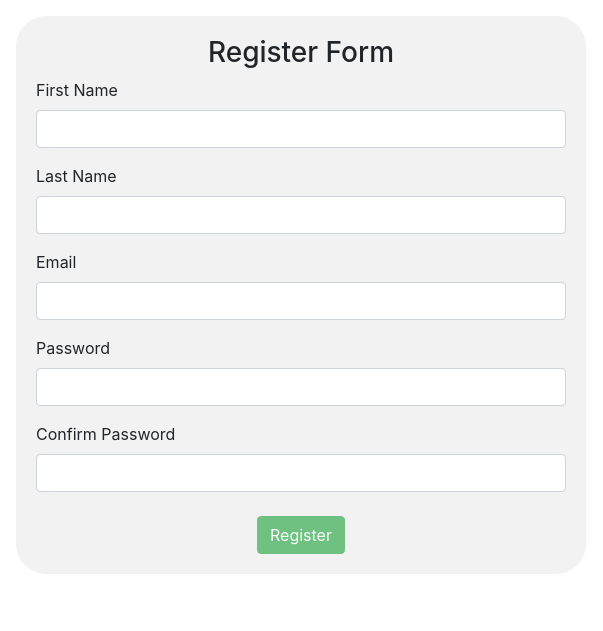
register page › confirm Password validation › fill password and confirmPassword with different strings, expect error saying *Please enter the same password
The width and height of the screenshot is (603, 631).
Type "abctestAAA" into the 1st password field named "password".
click(301, 387); type("abctestAAA")  # box [36,368,566,406]
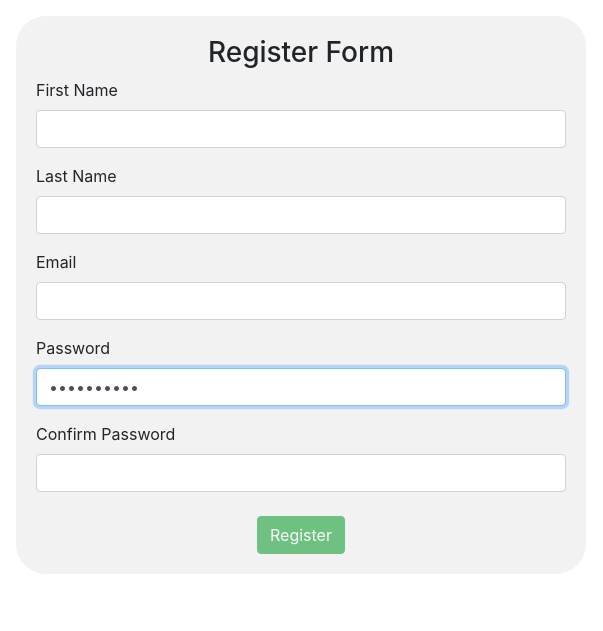
Type "qwerty" into the password field named "confirmPassword" below "Confirm Password".
click(301, 473); type("qwerty")  # box [36,454,566,492]
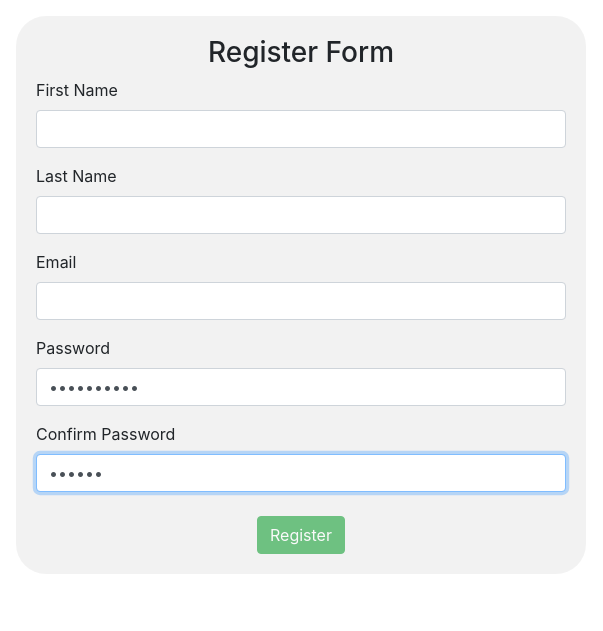
Focus the 1st password field named "password" at (301, 387), box [36,368,566,406]
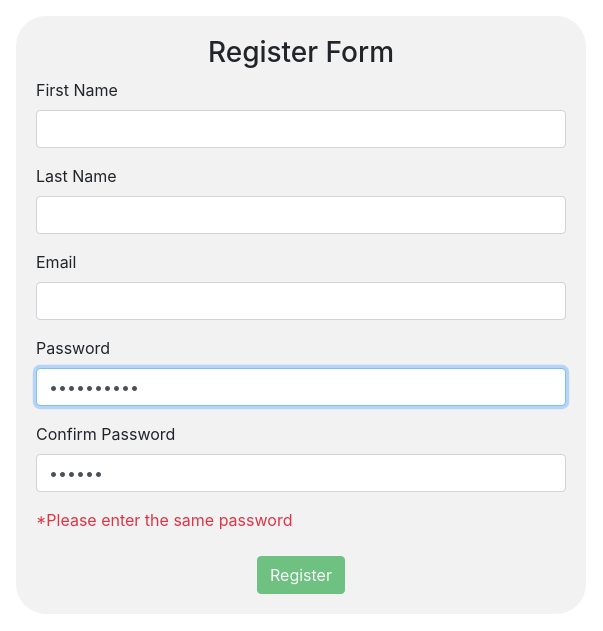
Check: the text "*Please enter the same password" is shown, box [36,510,292,530]
